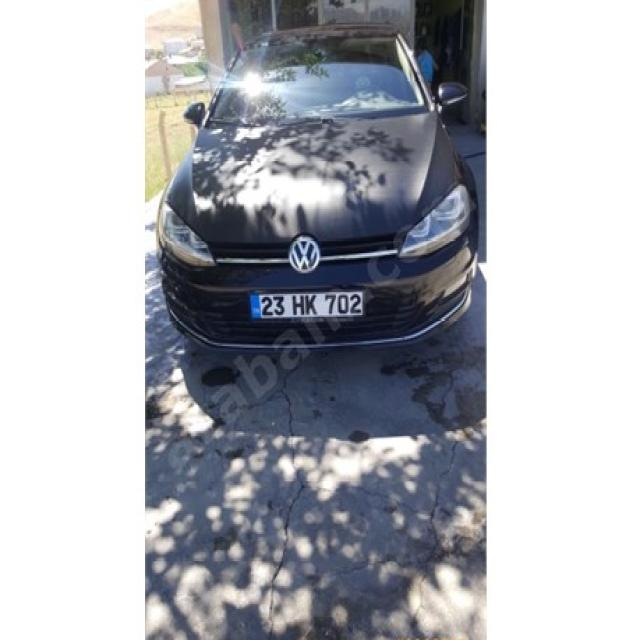license_plate: (249, 289, 363, 320)
